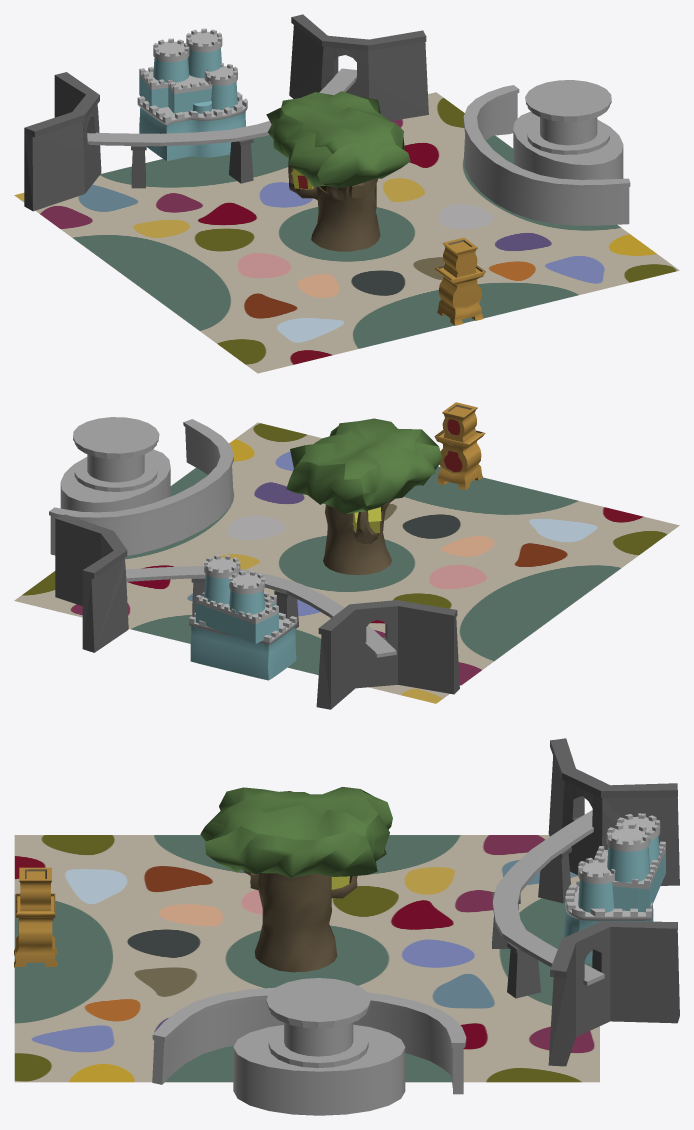
File: set_03.fbx
3 views of the same model, one above another, from view 1: azimuth 30°, elevation 25°; view 2: azimuth 150°, elevation 25°; view 3: azimuth 270°, elevation 25° (orthographic). The views are drawn at different scales.
Visible parts, largest first — view 1: floor_plane, pCube7, tree_pCube8, pCube4, pCube12, pCylinder5, pCylinder4, pCube2, pCube1, pCube11, pCylinder2, pCube10 (+7 smaller); view 2: floor_plane, pCube12, tree_pCube8, pCube7, pCube4, pCube2, pCylinder5, pCylinder4, pCube1, pCylinder2, pCube11, pCube10 (+5 smaller); view 3: floor_plane, tree_pCube8, pCube4, pCube7, pCylinder4, pCube12, pCylinder5, pCube11, pCylinder2, pCube1, pCylinder11, pCube10 (+7 smaller).
Boxes of the visible parts, x1,y1,x2,y2 form: floor_plane: (14, 92, 679, 373); pCube7: (463, 85, 630, 225); tree_pCube8: (266, 91, 410, 187); pCube4: (289, 14, 428, 120); pCube12: (24, 72, 101, 211); pCylinder5: (288, 165, 380, 251); pCylinder4: (513, 111, 623, 179); pCube2: (137, 92, 247, 161); pCube1: (435, 237, 485, 325); pCube11: (87, 68, 356, 146); pCylinder2: (525, 80, 611, 121); pCube10: (139, 67, 212, 113); floor_plane: (14, 422, 679, 703); pCube12: (316, 600, 459, 709); tree_pCube8: (286, 418, 441, 514); pCube7: (49, 419, 233, 555); pCube4: (55, 514, 128, 652); pCube2: (189, 612, 297, 680); pCylinder5: (323, 498, 394, 575); pCylinder4: (60, 449, 170, 512); pCube1: (434, 402, 485, 490); pCylinder2: (73, 417, 159, 458); pCube11: (126, 566, 396, 657); pCube10: (196, 592, 278, 643); floor_plane: (14, 835, 599, 1082); tree_pCube8: (200, 787, 392, 877); pCube4: (548, 921, 679, 1066); pCube7: (152, 987, 466, 1094); pCylinder4: (233, 1024, 405, 1115); pCube12: (548, 738, 679, 885); pCylinder5: (243, 870, 357, 972); pCube11: (492, 810, 604, 985); pCylinder2: (266, 978, 370, 1028); pCube1: (14, 867, 57, 967); pCylinder11: (606, 823, 650, 882); pCube10: (593, 841, 665, 912).
Size of the model in its own units: 45.79 by 11.75 by 45.5.
